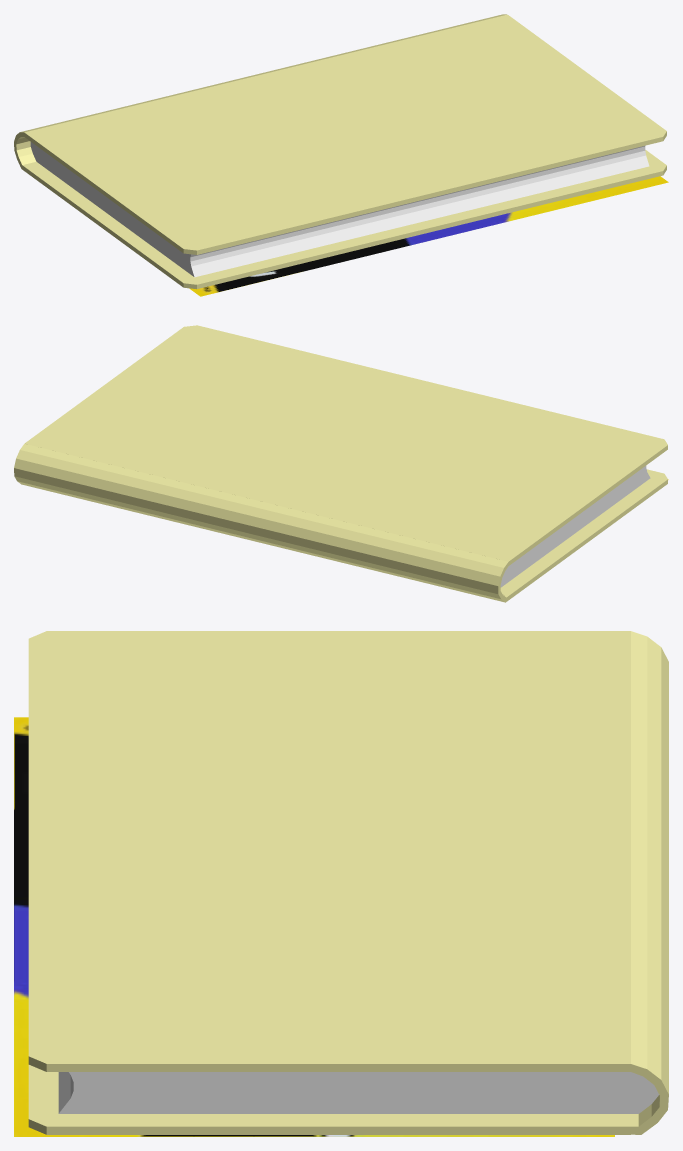
Rendered from item-connors-book-for-dummies.glb.
3 renders of one model, top to bottom at view 1: azimuth 30°, elevation 25°; view 2: azimuth 150°, elevation 25°; view 3: azimuth 270°, elevation 25°, orthographic. The views are drawn at different scales.
Bounding box in the file's own units: 3.4 × 0.29 × 2.17.
3 materials, 1 textured.
